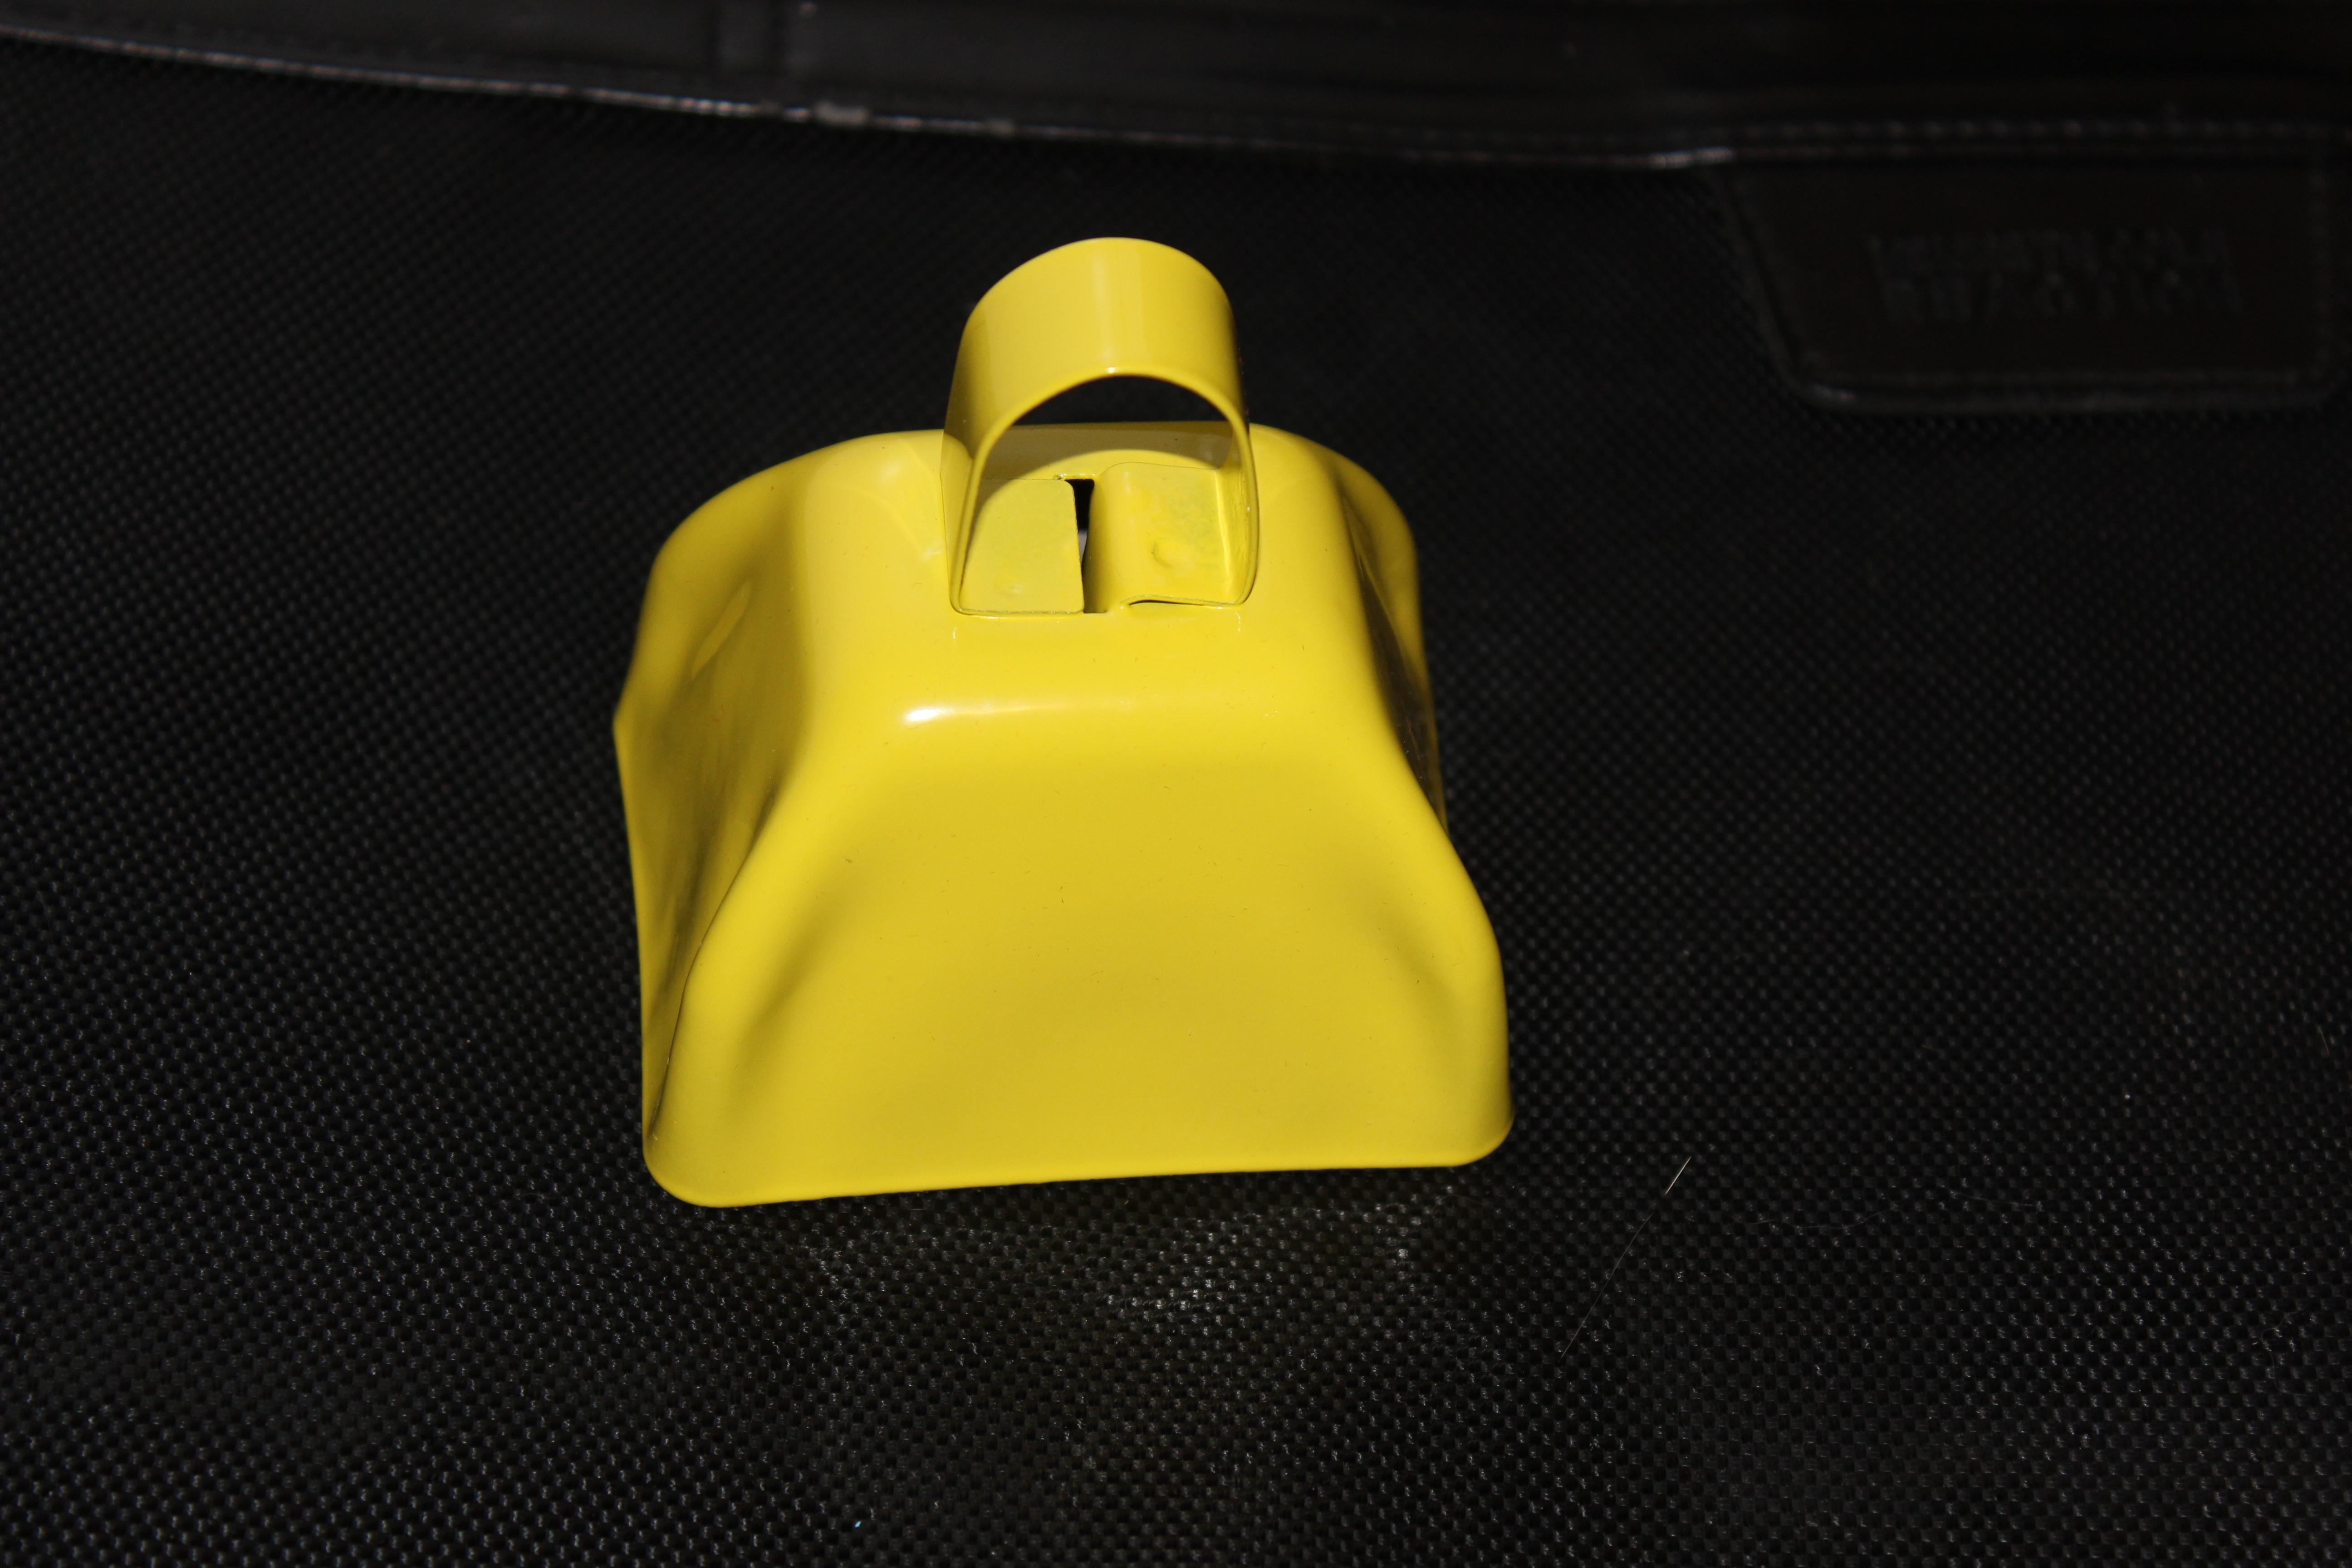cowbell: (553, 194, 1575, 1225)
